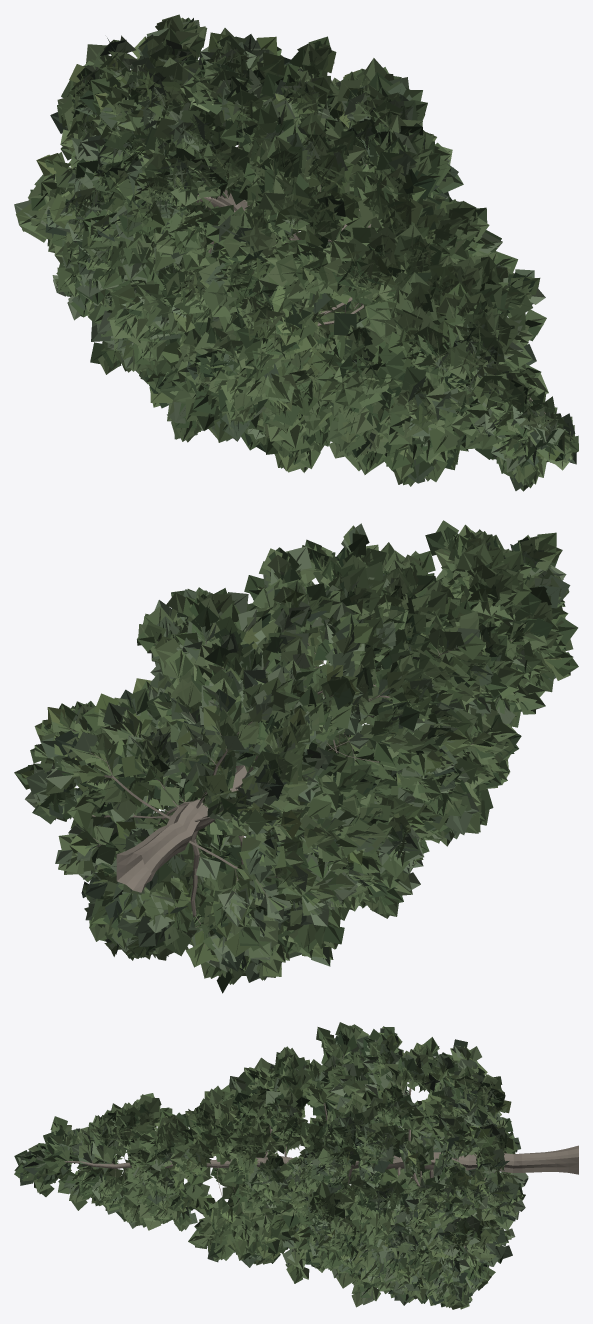
Rendered from tree_near_16.obj.
3 renders of one model, top to bottom at view 1: azimuth 30°, elevation 25°; view 2: azimuth 150°, elevation 25°; view 3: azimuth 270°, elevation 25°, orthographic. The views are drawn at different scales.
Visible parts, largest first — view 1: tree_near_16; view 2: tree_near_16; view 3: tree_near_16.
Boxes of the visible parts, x1=… form: tree_near_16: x1=14, y1=14, x2=578, y2=491; tree_near_16: x1=14, y1=520, x2=578, y2=993; tree_near_16: x1=14, y1=1022, x2=578, y2=1309.
Bounding box in the file's own units: 0.5308 × 0.4994 × 0.9941.
1 material, 1 textured.
